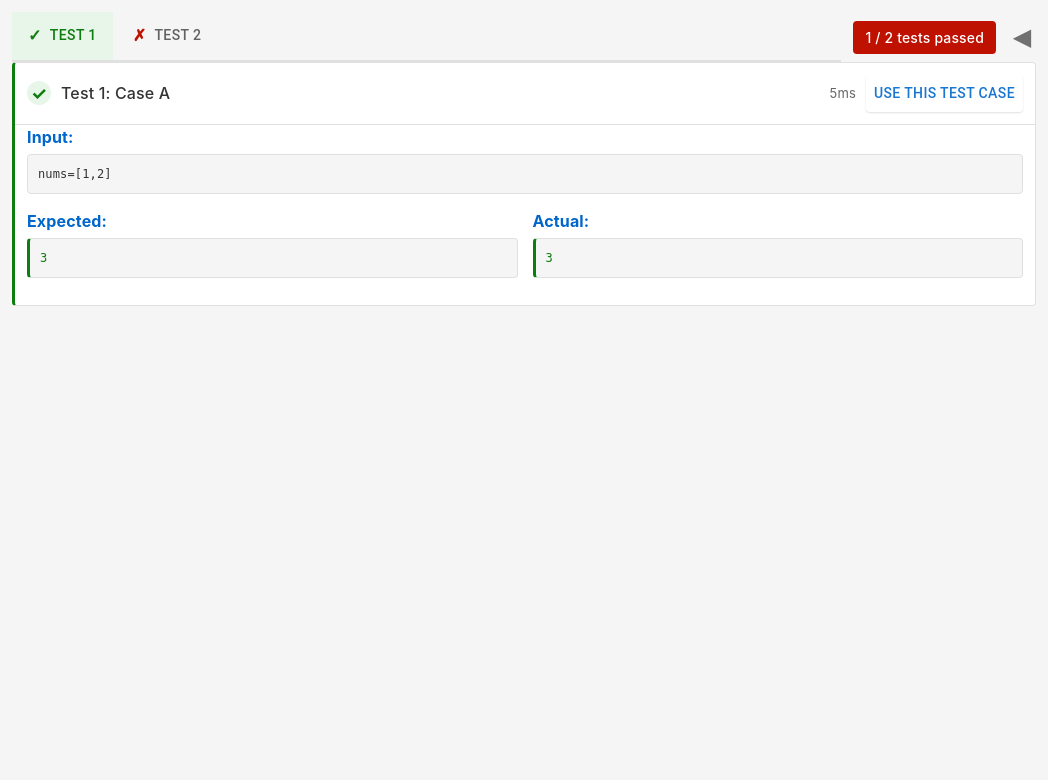
Scenario: TestResults › disables the use button when the test case is already in run
The width and height of the screenshot is (1048, 780).
Click the tab "✗ Test 2" at (167, 36), box [117,12,217,60]
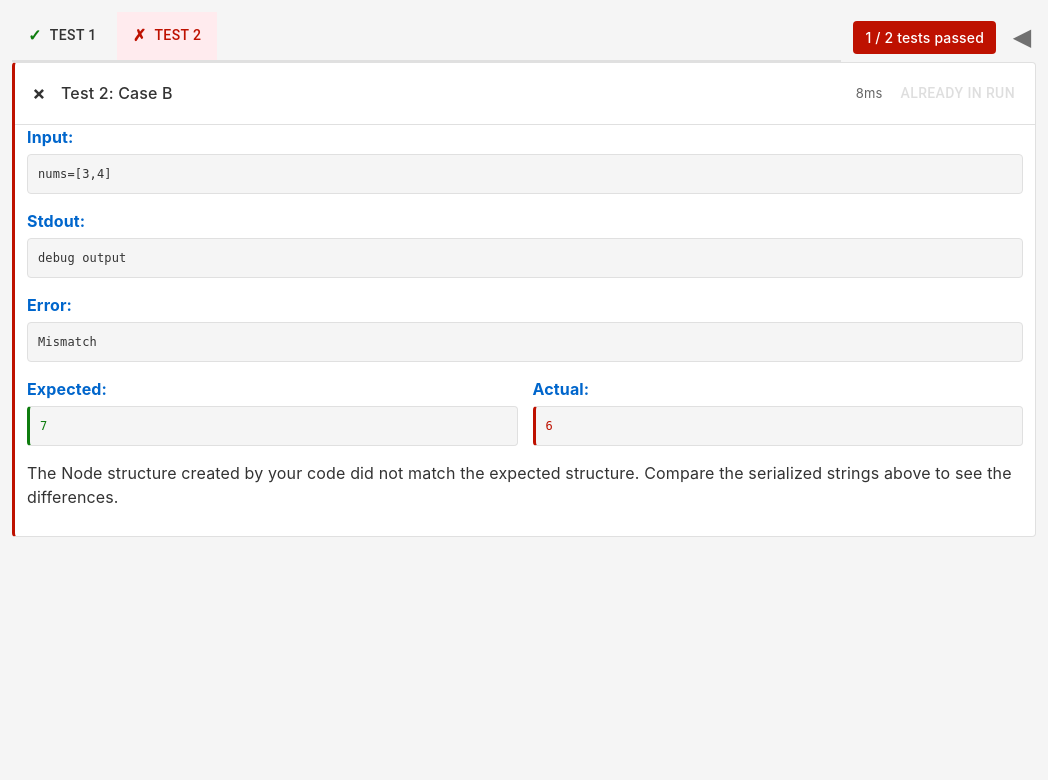
Now the button "Already in Run" is disabled, box [892,75,1023,112]
